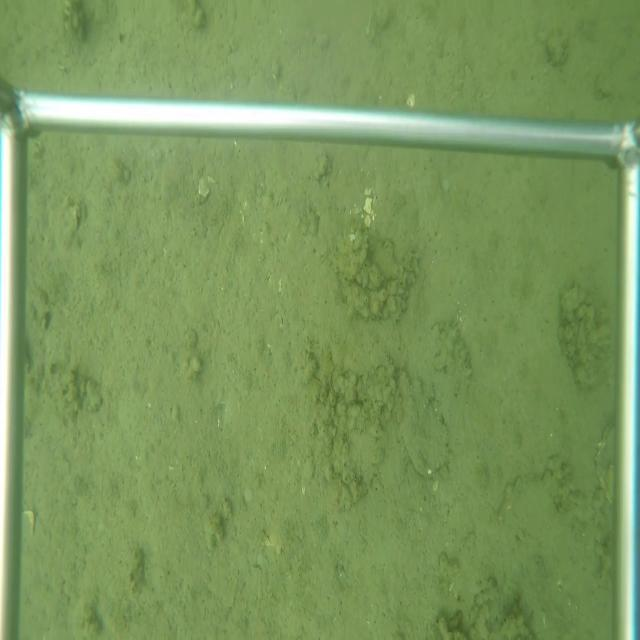Oyster-Indeterminate: (391, 367, 452, 479), (590, 411, 614, 514)
